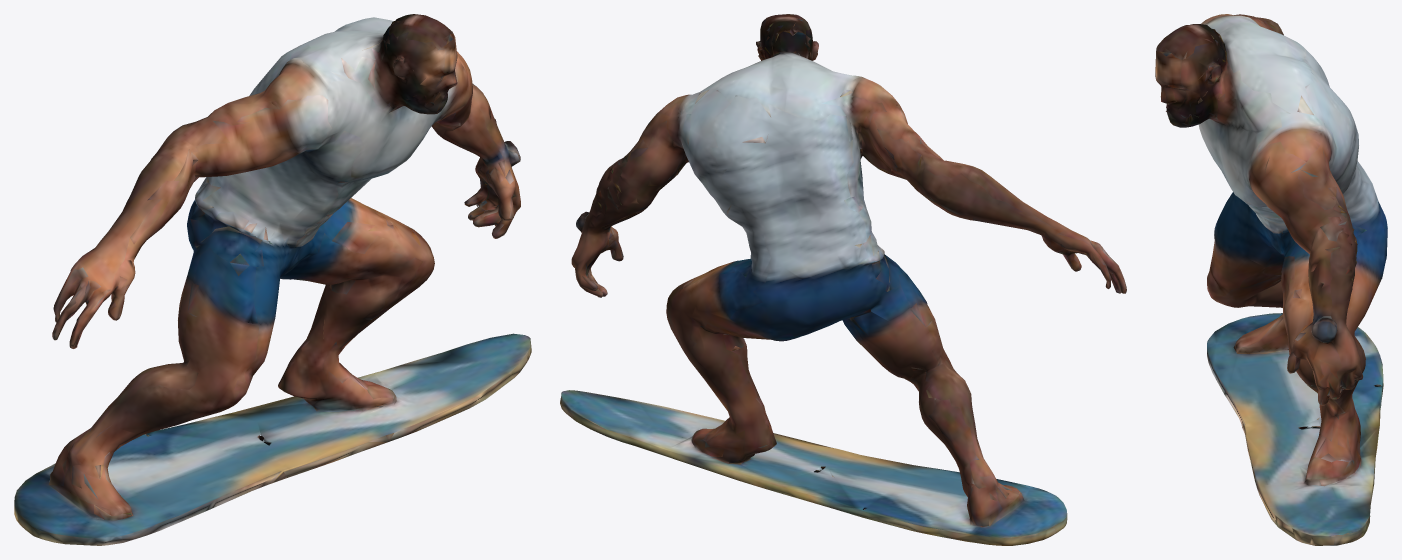
File: kit_izmir_surfer_a.glb
3 renders of one model, left to right at view 1: azimuth 30°, elevation 25°; view 2: azimuth 150°, elevation 25°; view 3: azimuth 270°, elevation 25°, orthographic. The views are drawn at different scales.
Parts seen in each view (by area): view 1: Mesh1.0; view 2: Mesh1.0; view 3: Mesh1.0.
Boxes of the visible parts, <box> form: Mesh1.0: <box>14,14,531,545</box>; Mesh1.0: <box>560,14,1126,545</box>; Mesh1.0: <box>1155,14,1387,545</box>.
Size of the model in its own units: 2.27 by 1.8 by 0.8151.
1 material, 1 textured.
